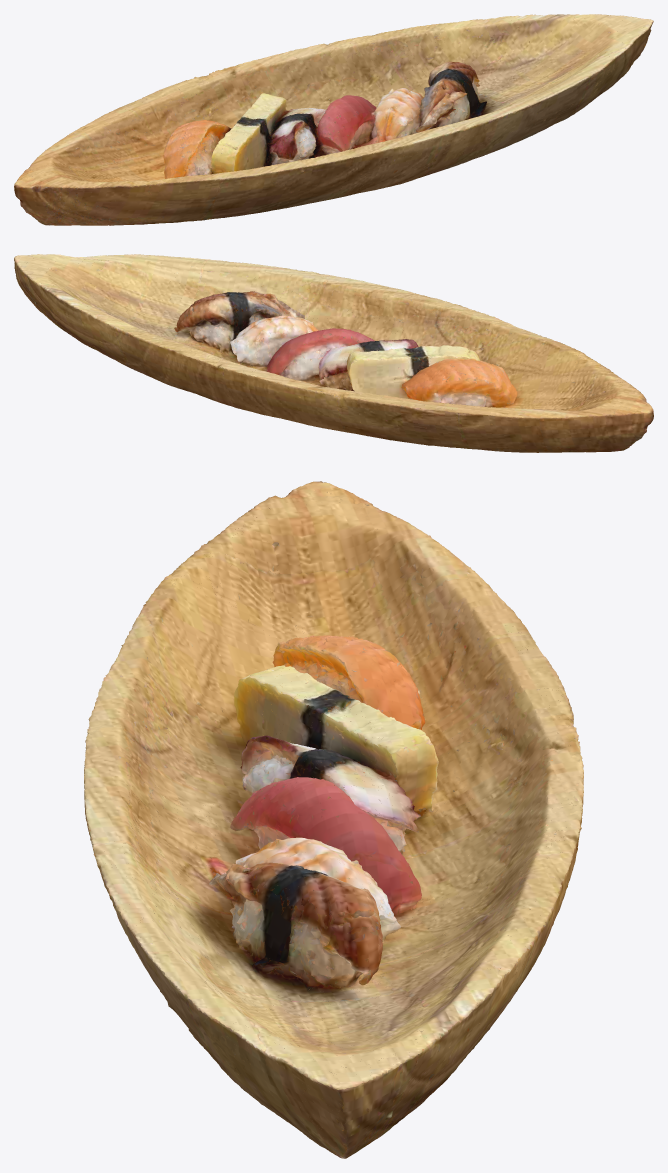
3 views of the same model, one above another, from view 1: azimuth 30°, elevation 25°; view 2: azimuth 150°, elevation 25°; view 3: azimuth 270°, elevation 25° (orthographic). The views are drawn at different scales.
Parts seen in each view (by area): view 1: Object_2, Object_3; view 2: Object_2, Object_3; view 3: Object_2, Object_3.
Boxes of the visible parts, left/top/right/bottom form: Object_2: left=14, top=14, right=653, bottom=225; Object_3: left=54, top=14, right=651, bottom=225; Object_2: left=14, top=254, right=653, bottom=452; Object_3: left=14, top=255, right=640, bottom=450; Object_2: left=84, top=481, right=583, bottom=1151; Object_3: left=84, top=508, right=582, bottom=1158.
Size of the model in its own units: 0.4573 by 0.0398 by 0.1563.
1 material, 1 textured.
